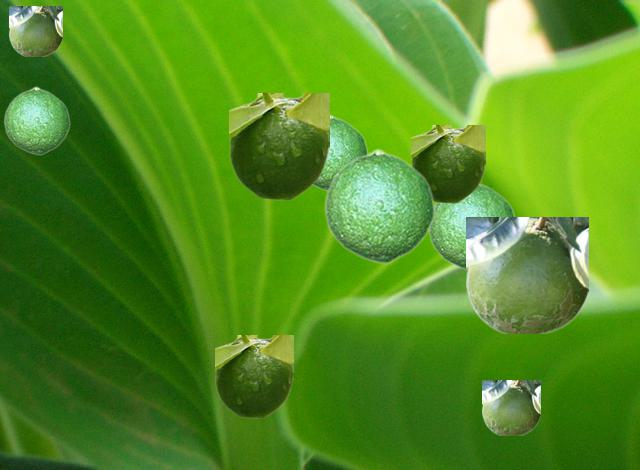dalandan: (466, 217, 587, 332), (323, 148, 434, 263), (229, 93, 328, 199), (428, 183, 515, 270), (215, 335, 292, 417), (411, 125, 484, 202), (3, 86, 69, 154), (313, 114, 367, 191), (482, 380, 539, 434), (9, 6, 61, 55)
